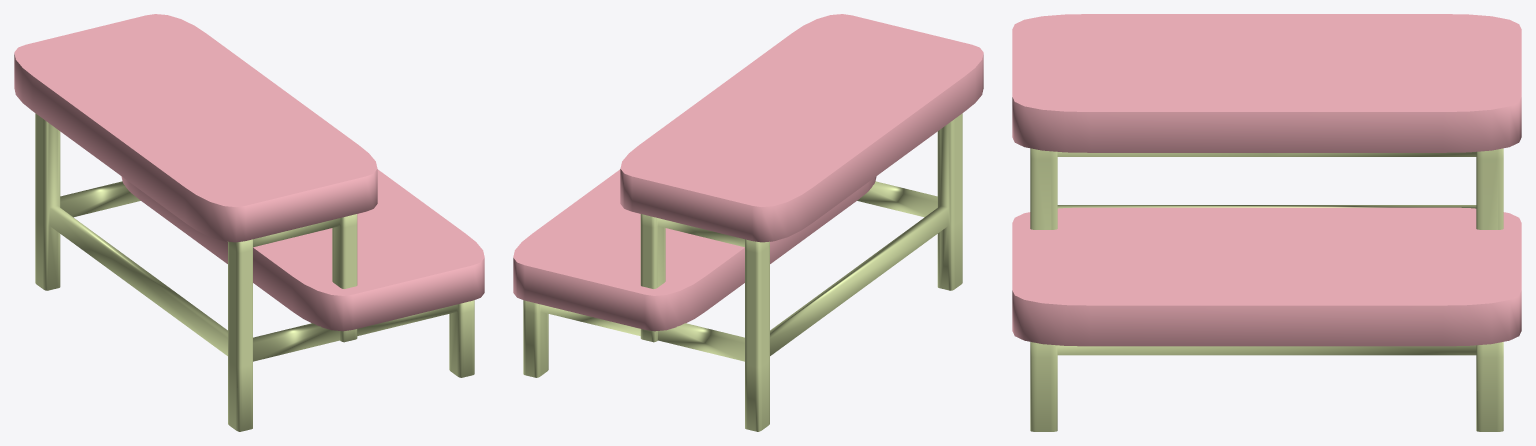
Rendered from AmmePortaat1.fbx.
3 renders of one model, left to right at view 1: azimuth 30°, elevation 25°; view 2: azimuth 150°, elevation 25°; view 3: azimuth 270°, elevation 25°, orthographic. The views are drawn at different scales.
Visible parts, largest first — view 1: penkki; view 2: penkki; view 3: penkki.
Boxes of the visible parts, left/top/right/bottom form: penkki: left=14, top=14, right=484, bottom=431; penkki: left=513, top=14, right=983, bottom=431; penkki: left=1012, top=14, right=1521, bottom=431.
Bounding box in the file's own units: 0.6804 × 0.5377 × 0.9229.
